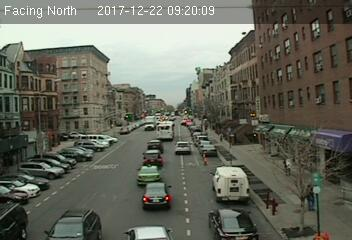bus: (156, 121, 174, 141)
car: (38, 205, 108, 240), (207, 208, 259, 240), (139, 180, 172, 211), (138, 164, 160, 185), (142, 150, 163, 165), (175, 141, 193, 156), (199, 143, 218, 156)
truck: (209, 165, 250, 203)
